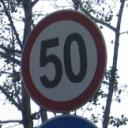speed_limit_50: (21, 11, 107, 111)
